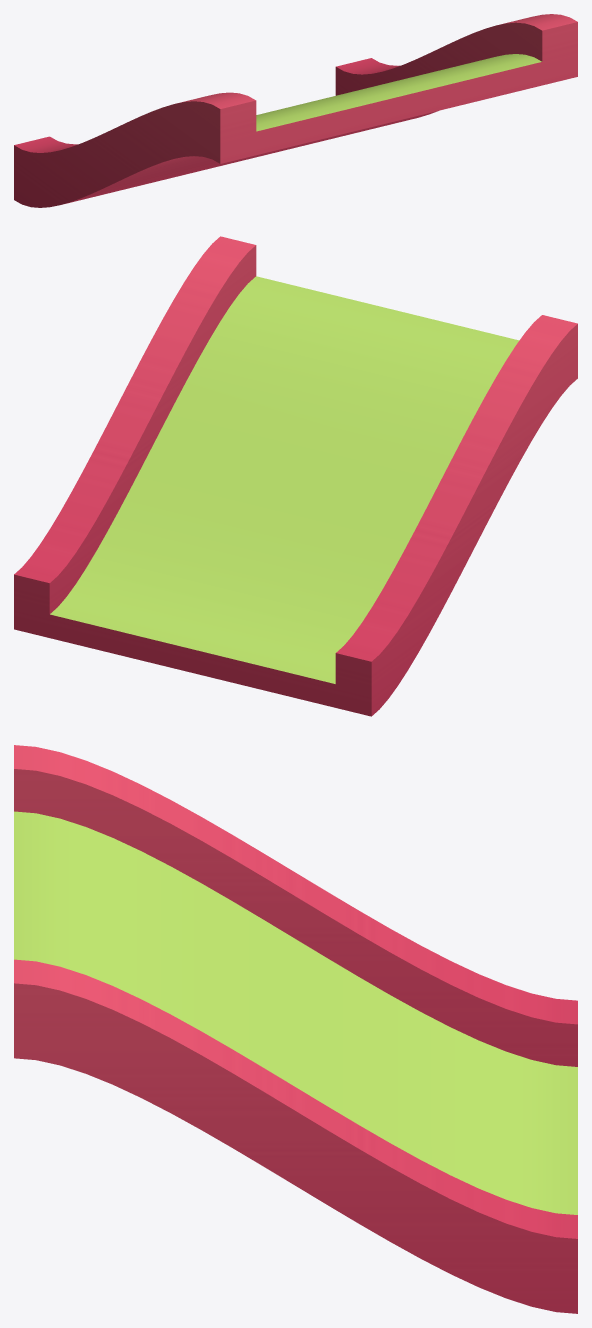
File: ramp.gltf
The picture shows the model from 3 angles, top to bottom: view 1: azimuth 30°, elevation 25°; view 2: azimuth 150°, elevation 25°; view 3: azimuth 270°, elevation 25°; orthographic projection. The views are drawn at different scales.
Parts seen in each view (by area): view 1: ramp; view 2: ramp; view 3: ramp.
Part boxes in pixels (x1=…): ramp: x1=14, y1=14, x2=577, y2=207; ramp: x1=14, y1=236, x2=577, y2=716; ramp: x1=14, y1=745, x2=577, y2=1313.
Bounding box in the file's own units: 0.9999 × 0.6467 × 0.9999.
Materials: 1 (1 with a texture image).
